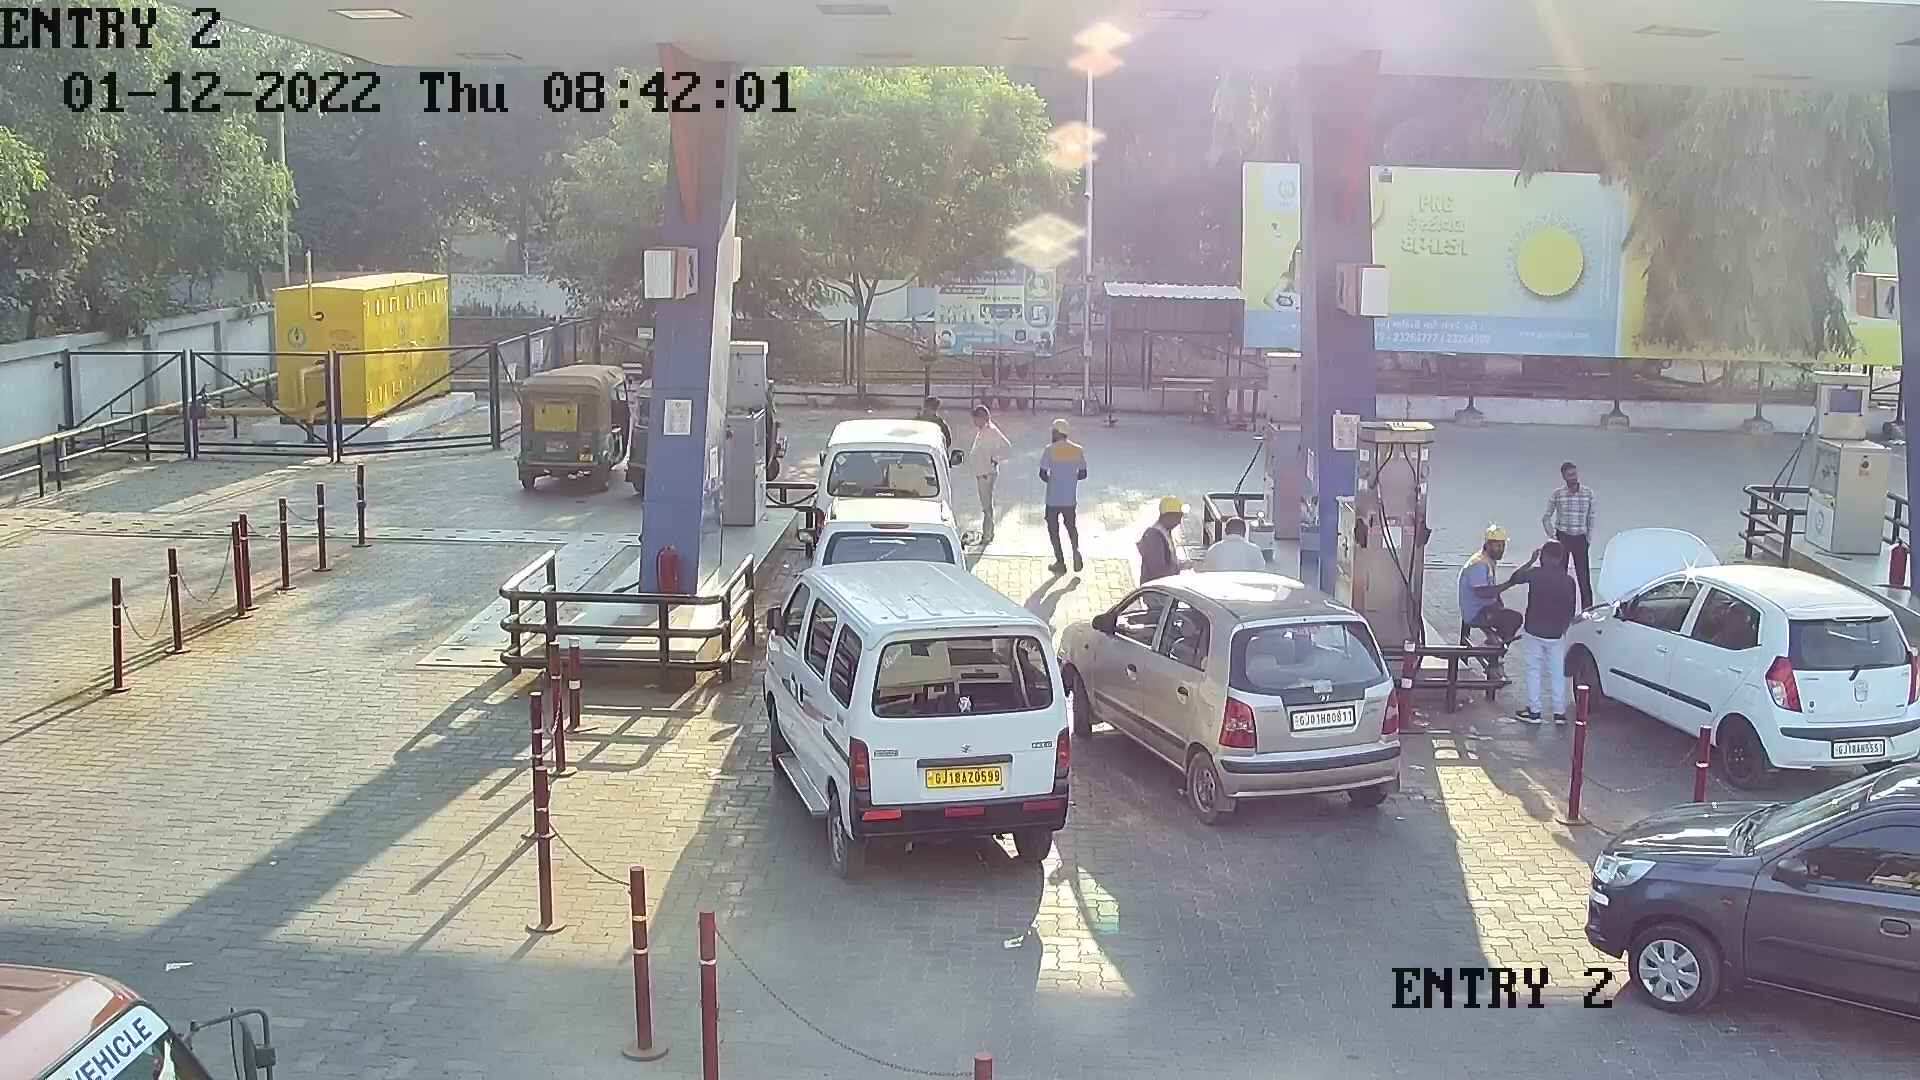Auto: (508, 353, 633, 498), (616, 368, 657, 502)
Car: (748, 553, 1087, 885), (1572, 752, 1917, 1044), (1549, 521, 1915, 796), (1050, 563, 1411, 833), (802, 407, 968, 549), (785, 488, 981, 575)
HMV: (1, 932, 297, 1077)
Others: (1451, 518, 1527, 651), (1031, 410, 1089, 580), (1130, 492, 1189, 591)
